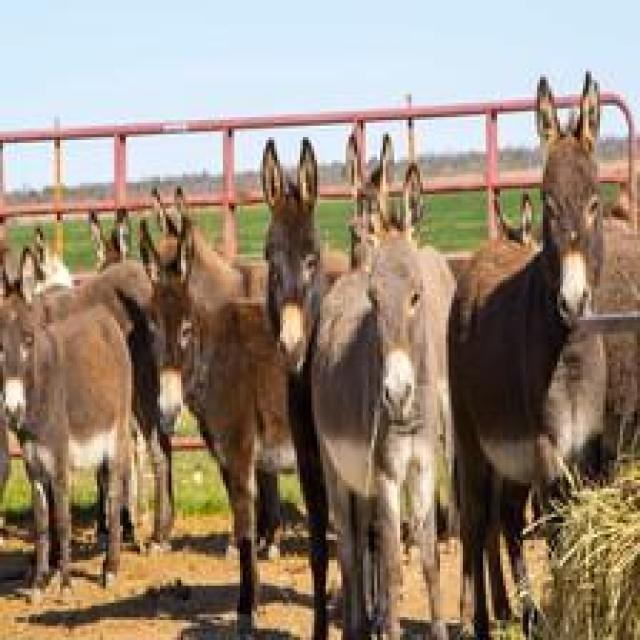Donkey: (446, 69, 608, 637), (309, 160, 457, 637), (137, 183, 294, 631), (0, 243, 157, 606), (260, 134, 349, 637), (446, 192, 543, 637), (86, 206, 174, 554), (0, 229, 20, 597), (343, 132, 391, 268), (86, 206, 131, 268)
